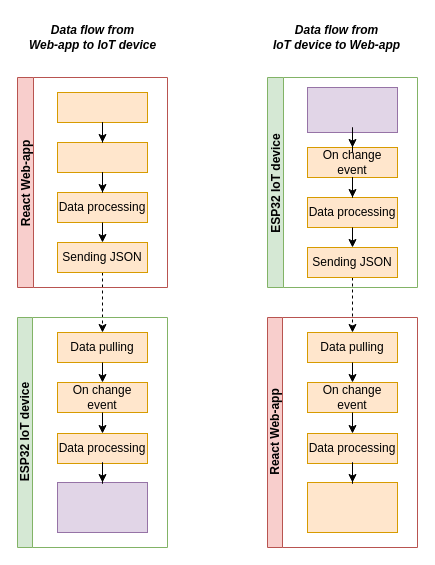
The diagram is 435 pixels wide and 565 high, and some of its shapes have lost their labels. Each missing label, with the centre of its shape:
"Change Event" belongs at [102,157].
"HTML element" belongs at [102,107].
"Pin change / Package from sensors" belongs at [352,109].
"Pin change/ Package to extentions" belongs at [102,507].
"Sending data to user interface in HTML format" belongs at [352,507].
